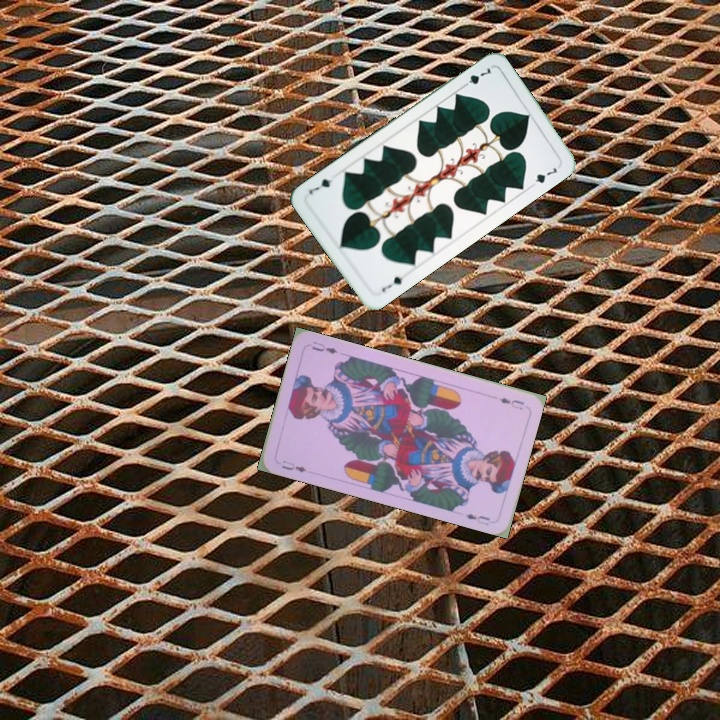EU: (496, 393, 527, 413), (277, 456, 309, 475)
G7: (458, 63, 493, 91), (378, 272, 405, 295)
